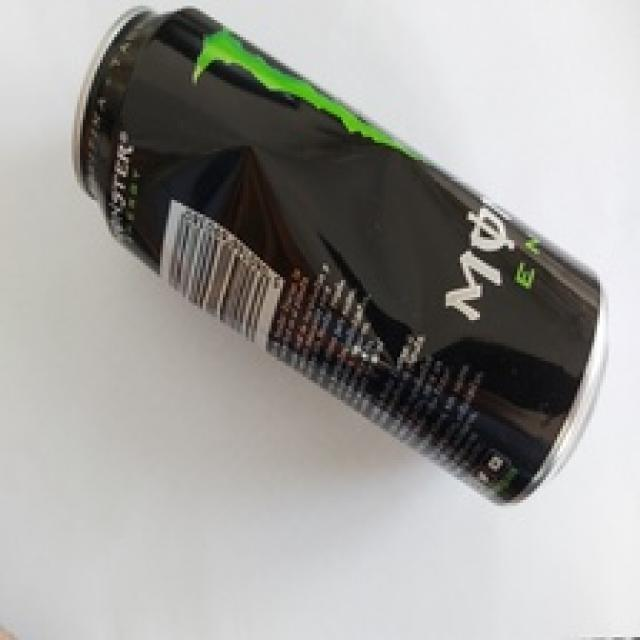recyclable: (72, 3, 606, 506)
